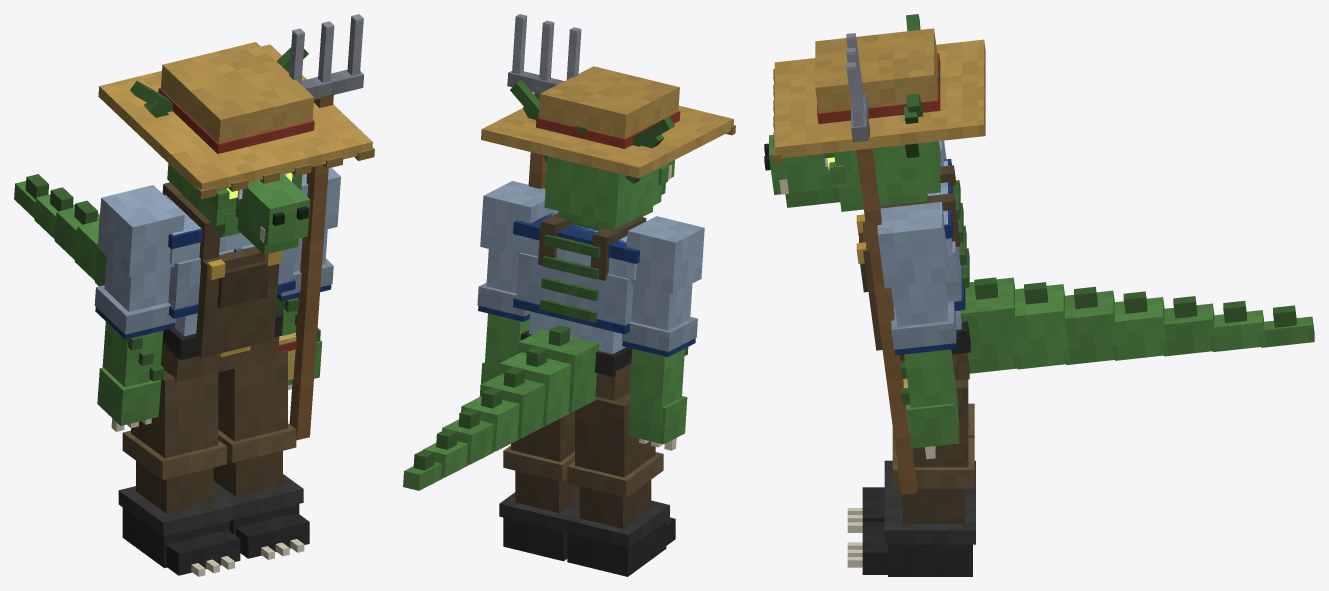
Rendered from lizard_fermier_v2.glb.
3 views of the same model, side by side, from view 1: azimuth 30°, elevation 25°; view 2: azimuth 150°, elevation 25°; view 3: azimuth 270°, elevation 25° (orthographic). The views are drawn at different scales.
Visible parts, largest first — view 1: Head, Torso, LegR, ArmR, LegL, HandL, ArmL, Root; view 2: Torso, Head, LegR, ArmR, LegL, ArmL, HandL; view 3: Head, Torso, ArmL, LegL, HandL, LegR, Root.
Part boxes in pixels (x1=…): Head: x1=98, y1=42, x2=374, y2=254; Torso: x1=14, y1=174, x2=296, y2=382; LegR: x1=118, y1=370, x2=240, y2=575; ArmR: x1=94, y1=185, x2=184, y2=431; LegL: x1=213, y1=350, x2=309, y2=558; HandL: x1=289, y1=14, x2=363, y2=440; ArmL: x1=276, y1=167, x2=340, y2=389; Root: x1=191, y1=539, x2=304, y2=576; Torso: x1=403, y1=210, x2=646, y2=490; Head: x1=481, y1=66, x2=735, y2=230; LegR: x1=563, y1=393, x2=675, y2=576; ArmR: x1=621, y1=216, x2=704, y2=450; LegL: x1=499, y1=411, x2=579, y2=561; ArmL: x1=477, y1=181, x2=555, y2=384; HandL: x1=507, y1=14, x2=581, y2=188; Head: x1=764, y1=14, x2=985, y2=211; Torso: x1=856, y1=159, x2=1314, y2=432; ArmL: x1=877, y1=202, x2=959, y2=459; LegL: x1=862, y1=379, x2=975, y2=576; HandL: x1=846, y1=33, x2=917, y2=494; LegR: x1=862, y1=403, x2=975, y2=521; Root: x1=847, y1=508, x2=862, y2=567.
Bounding box in the file's own units: 0.8175 × 1.87 × 1.75.
Materials: 36 (36 with a texture image).
